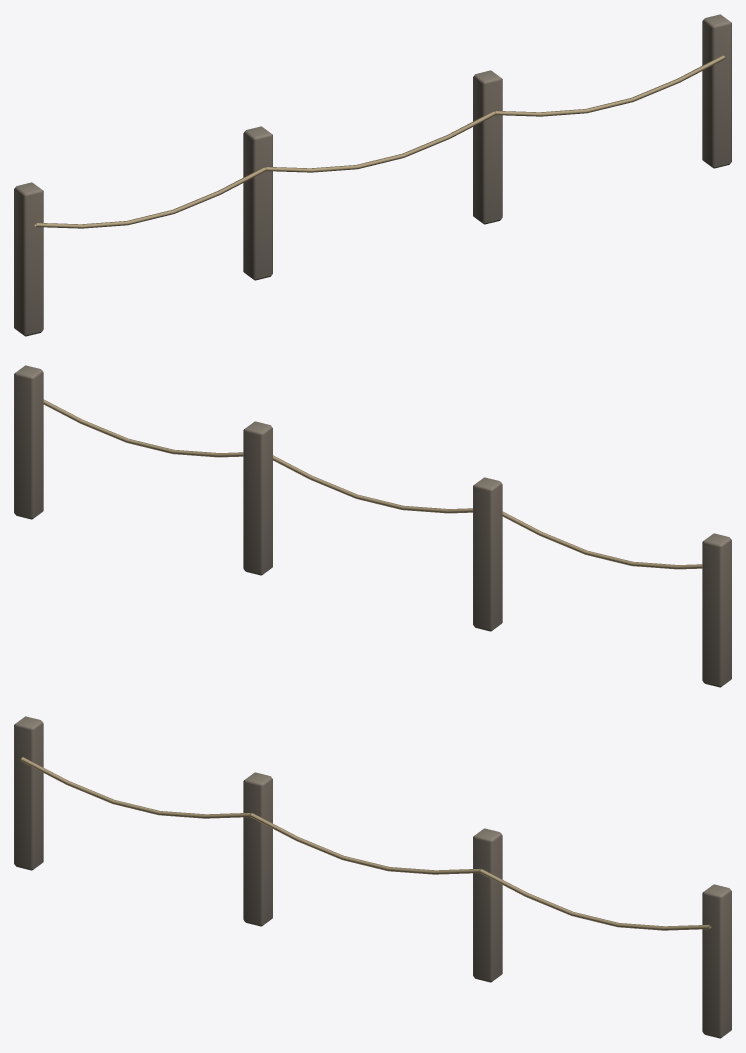
File: PostRopeFL.fbx
3 renders of one model, top to bottom at view 1: azimuth 30°, elevation 25°; view 2: azimuth 150°, elevation 25°; view 3: azimuth 330°, elevation 25°, orthographic.
Visible parts, largest first — view 1: PostRopeFL; view 2: PostRopeFL; view 3: PostRopeFL.
Part boxes in pixels (x1,y1,x2,y2): PostRopeFL: (14, 14, 731, 336); PostRopeFL: (14, 365, 731, 687); PostRopeFL: (14, 716, 731, 1038).
Bounding box in the file's own units: 4.12 × 0.8 × 0.1385.
